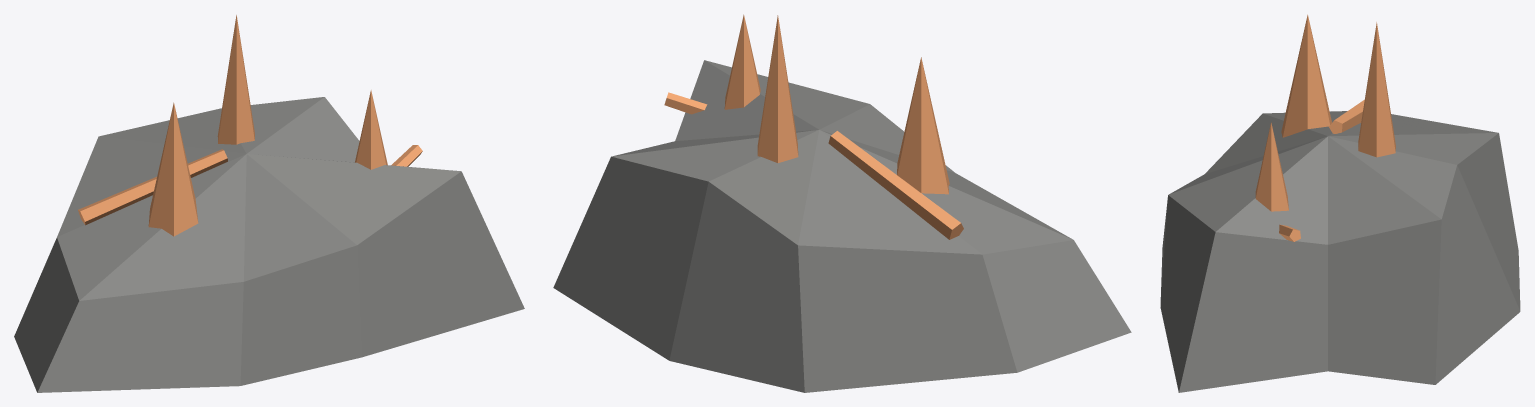
The model's file is ore_copper.glb.
3 renders of one model, left to right at view 1: azimuth 30°, elevation 25°; view 2: azimuth 150°, elevation 25°; view 3: azimuth 270°, elevation 25°, orthographic. The views are drawn at different scales.
Parts seen in each view (by area): view 1: ore_copper_rock_base, ore_copper_ore_crystal_1, ore_copper_ore_crystal_2, ore_copper_ore_vein_1, ore_copper_ore_crystal_3; view 2: ore_copper_rock_base, ore_copper_ore_crystal_1, ore_copper_ore_crystal_2, ore_copper_ore_vein_1, ore_copper_ore_crystal_3, ore_copper_ore_vein_2; view 3: ore_copper_rock_base, ore_copper_ore_crystal_1, ore_copper_ore_crystal_2, ore_copper_ore_crystal_3, ore_copper_ore_vein_1.
Boxes of the visible parts, box(x1,y1,x2,y2) form: ore_copper_rock_base: box(14, 97, 524, 392); ore_copper_ore_crystal_1: box(148, 102, 198, 236); ore_copper_ore_crystal_2: box(217, 15, 254, 144); ore_copper_ore_vein_1: box(78, 149, 227, 225); ore_copper_ore_crystal_3: box(355, 90, 387, 169); ore_copper_rock_base: box(553, 60, 1131, 392); ore_copper_ore_crystal_1: box(897, 57, 949, 194); ore_copper_ore_crystal_2: box(757, 15, 798, 162); ore_copper_ore_vein_1: box(828, 131, 963, 239); ore_copper_ore_crystal_3: box(724, 14, 760, 109); ore_copper_ore_vein_2: box(664, 92, 707, 114); ore_copper_rock_base: box(1160, 111, 1520, 392); ore_copper_ore_crystal_1: box(1281, 14, 1331, 137); ore_copper_ore_crystal_2: box(1358, 22, 1395, 157); ore_copper_ore_crystal_3: box(1255, 122, 1288, 211); ore_copper_ore_vein_1: box(1329, 100, 1364, 133).
Bounding box in the file's own units: 1.31 × 0.75 × 0.8862.
